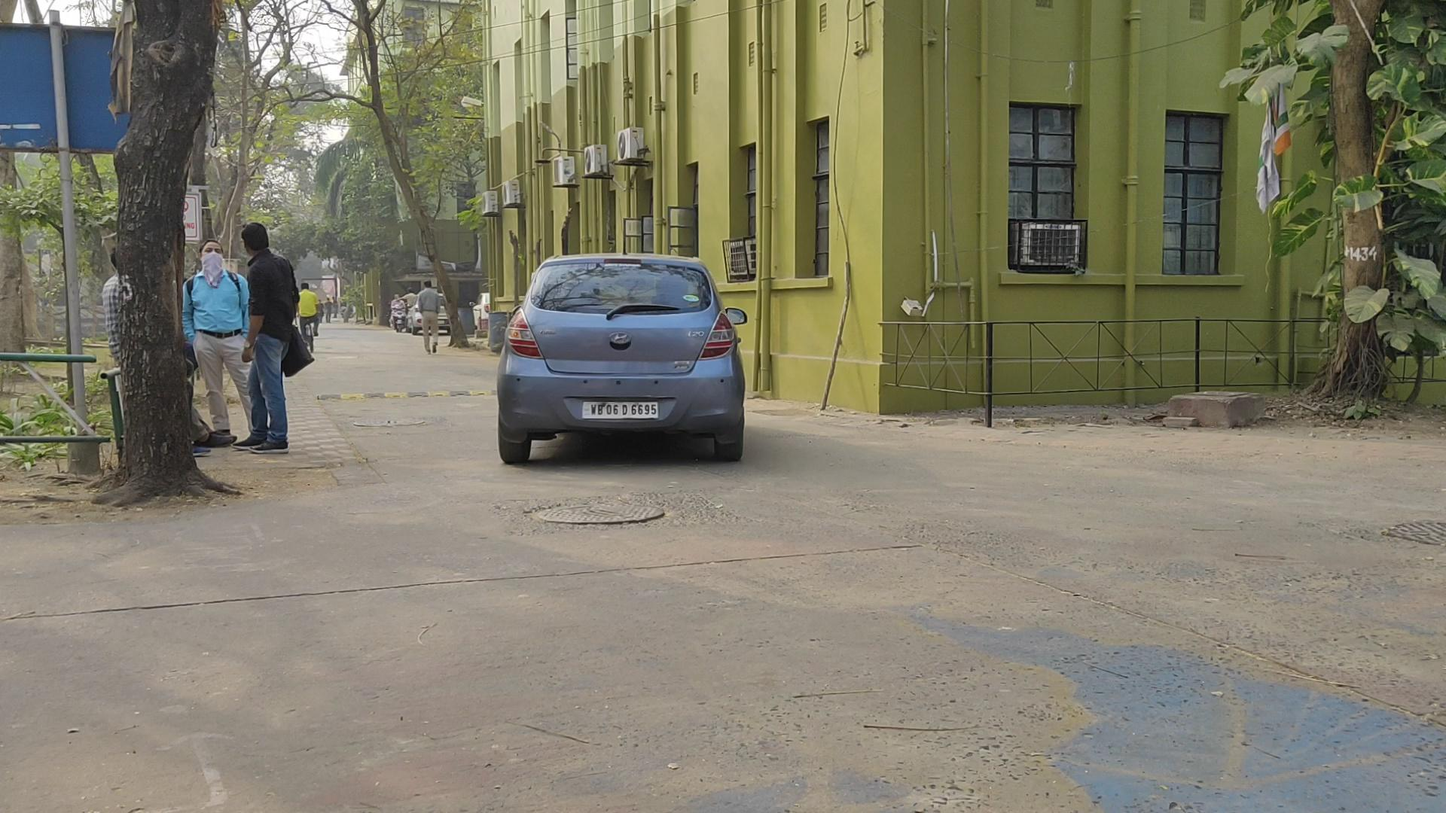bike: (388, 293, 407, 332)
car: (498, 253, 747, 474), (404, 294, 451, 336)
